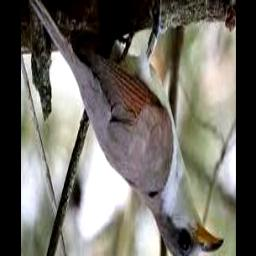Cuckoo: (22, 0, 222, 256)
